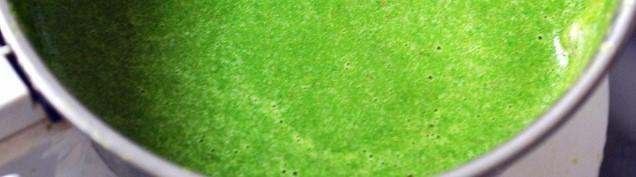GreenChutney: (9, 0, 616, 177)
